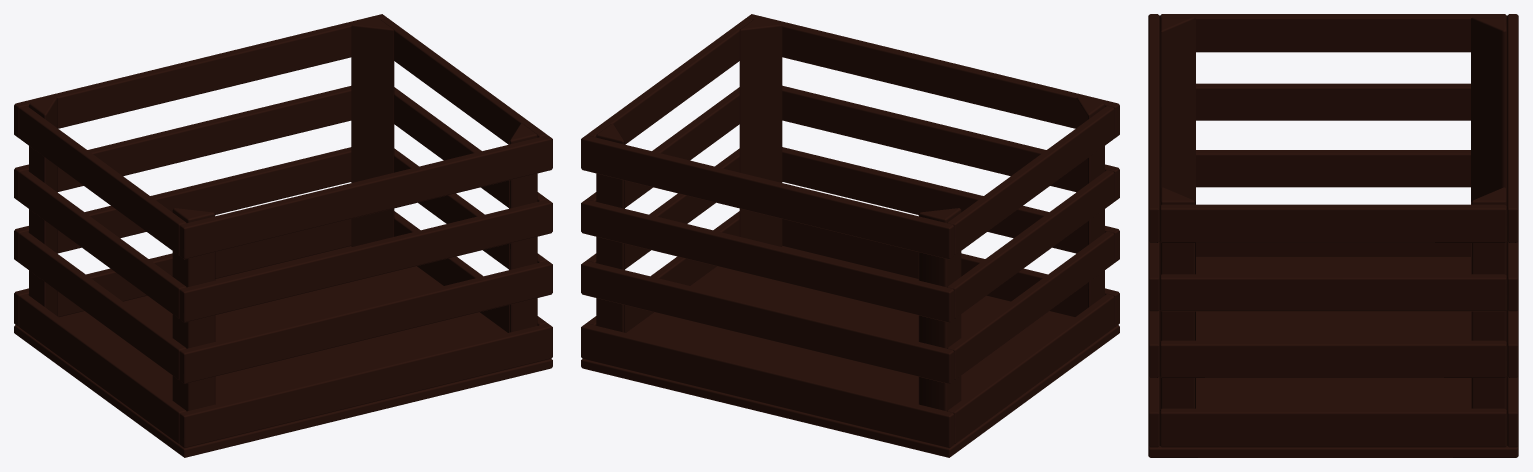
File: Crate_3m39yz.fbx
3 views of the same model, side by side, from view 1: azimuth 30°, elevation 25°; view 2: azimuth 150°, elevation 25°; view 3: azimuth 270°, elevation 25° (orthographic). The views are drawn at different scales.
Parts seen in each view (by area): view 1: Crate_3m39yz; view 2: Crate_3m39yz; view 3: Crate_3m39yz.
Boxes of the visible parts, x1,y1,x2,y2 form: Crate_3m39yz: (14, 14, 552, 457); Crate_3m39yz: (581, 14, 1119, 457); Crate_3m39yz: (1148, 14, 1518, 457).
Size of the model in its own units: 35 by 21.07 by 28.
